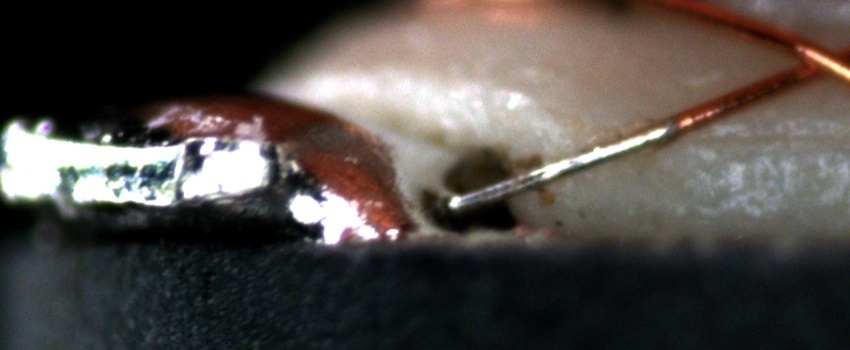CL: (775, 32, 847, 87)
DL: (676, 109, 850, 173)
TS: (449, 118, 675, 214)
